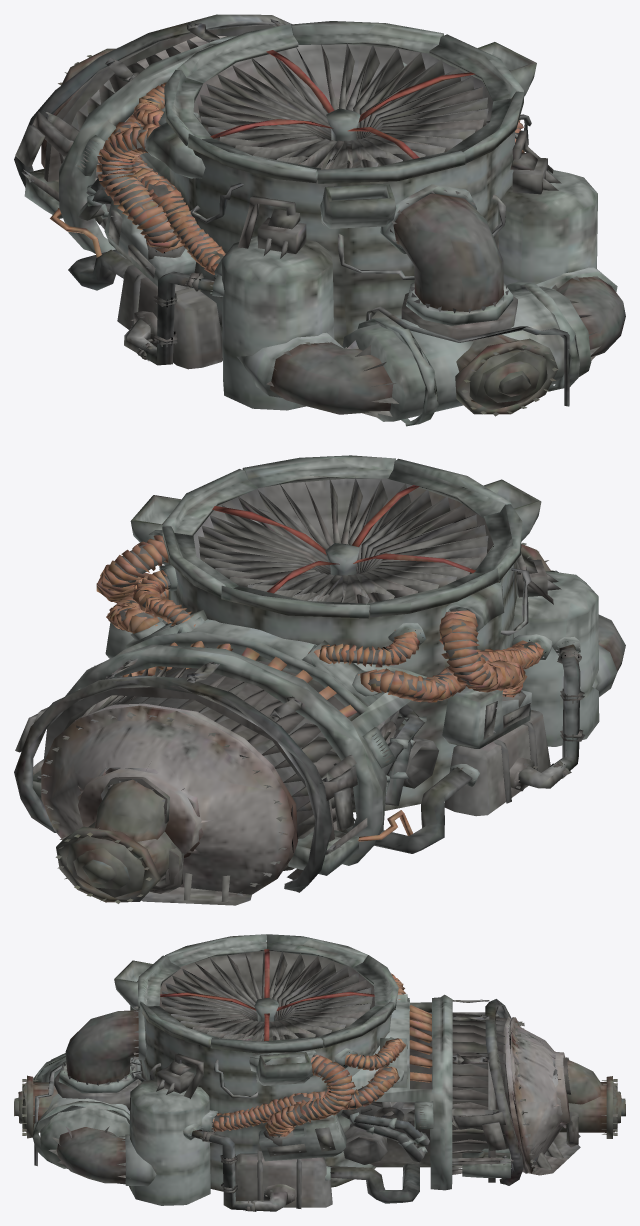
Rendered from steam-turbine.glb.
3 renders of one model, top to bottom at view 1: azimuth 30°, elevation 25°; view 2: azimuth 150°, elevation 25°; view 3: azimuth 270°, elevation 25°, orthographic. The views are drawn at different scales.
Parts seen in each view (by area): view 1: body, anim_spin_turbine_fan; view 2: body, anim_spin_turbine_fan; view 3: body, anim_spin_turbine_fan.
Part boxes in pixels (x1,y1,x2,y2): body: (14, 14, 625, 426); anim_spin_turbine_fan: (198, 43, 488, 169); body: (14, 455, 625, 905); anim_spin_turbine_fan: (198, 477, 488, 603); body: (14, 934, 625, 1211); anim_spin_turbine_fan: (161, 951, 372, 1041).
Size of the model in its own units: 3.09 by 1.45 by 5.22.
Materials: 1 (1 with a texture image).
